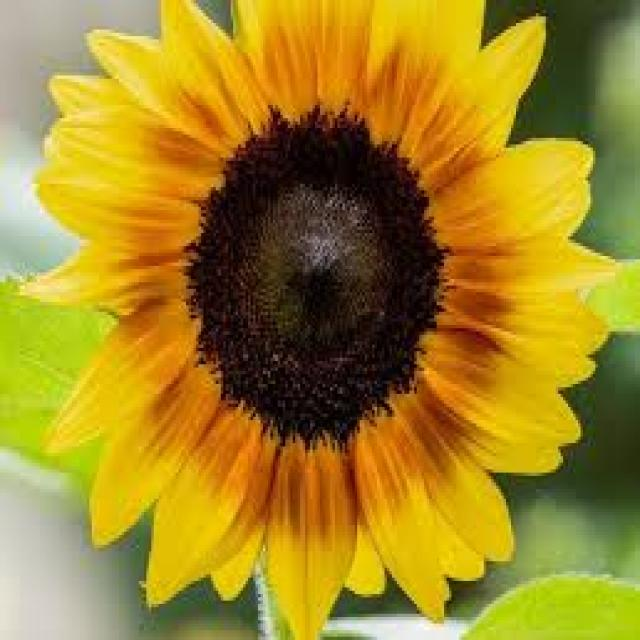sunflower: (10, 0, 630, 640)
